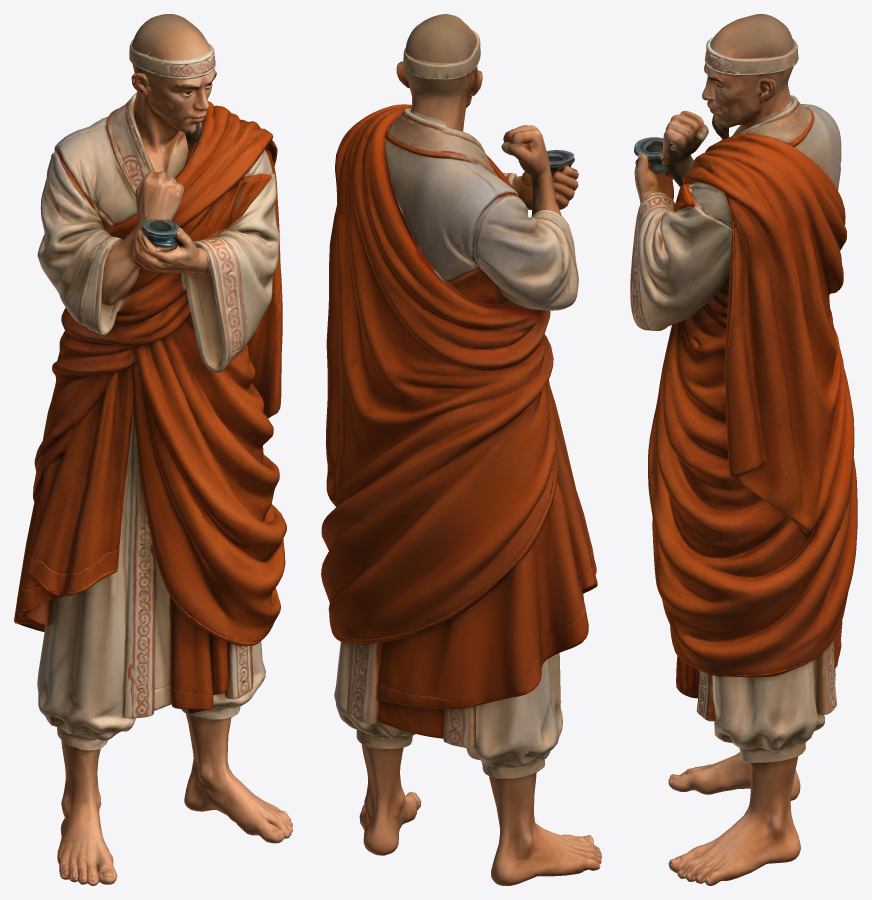
The model's file is fengzhen-tripo.glb.
3 renders of one model, left to right at view 1: azimuth 30°, elevation 25°; view 2: azimuth 150°, elevation 25°; view 3: azimuth 270°, elevation 25°, orthographic. The views are drawn at different scales.
Parts seen in each view (by area): view 1: tripo_node_b046b1d4-8fbb-4ed4-9213-0d96ad58f388; view 2: tripo_node_b046b1d4-8fbb-4ed4-9213-0d96ad58f388; view 3: tripo_node_b046b1d4-8fbb-4ed4-9213-0d96ad58f388.
Part boxes in pixels (x1,y1,x2,y2): tripo_node_b046b1d4-8fbb-4ed4-9213-0d96ad58f388: [14, 14, 292, 885]; tripo_node_b046b1d4-8fbb-4ed4-9213-0d96ad58f388: [321, 14, 601, 885]; tripo_node_b046b1d4-8fbb-4ed4-9213-0d96ad58f388: [630, 14, 857, 885].
Size of the model in its own units: 0.3175 by 0.9792 by 0.2456.
1 material, 1 textured.
